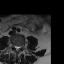CCS_normal: (16, 43, 18, 53)
LFS_normal: (20, 42, 22, 50)
LLS_normal: (18, 44, 20, 51)
RFS_normal: (12, 42, 14, 50)
RLS_normal: (14, 43, 16, 51)
